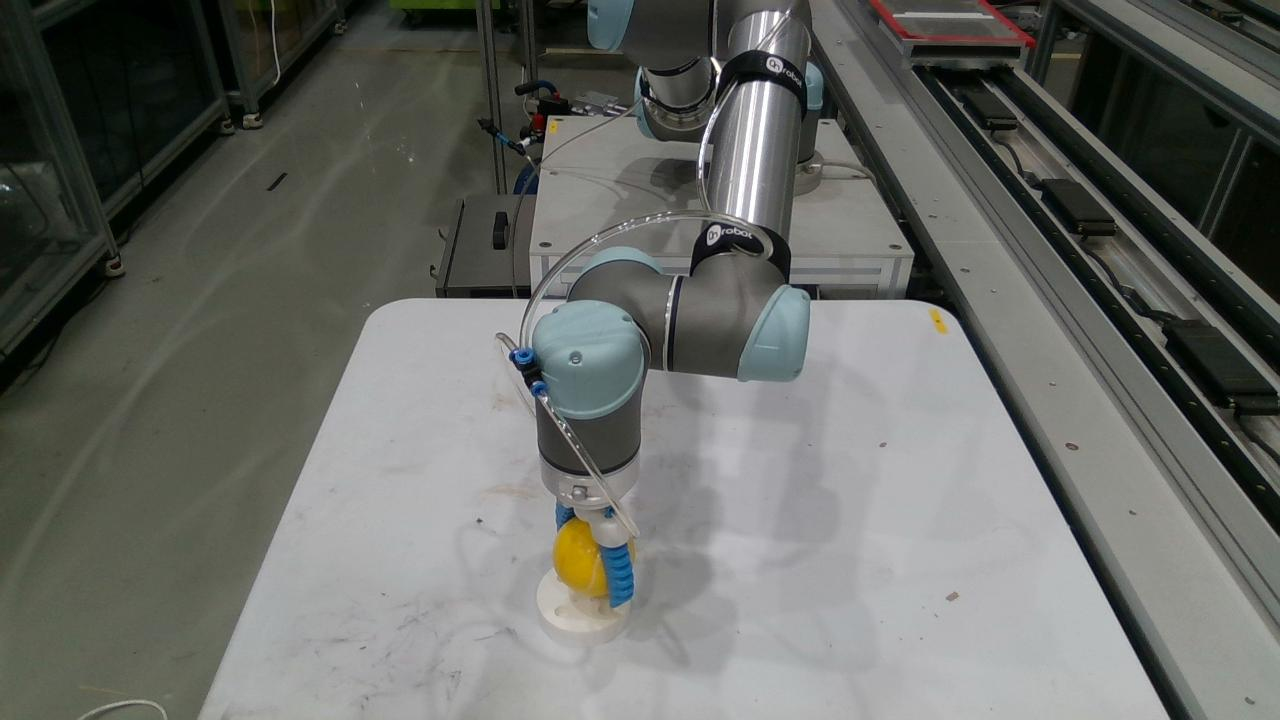UR5: (531, 0, 816, 503), (542, 448, 637, 547)
gripper_left: (556, 501, 575, 530)
gripper_right: (604, 546, 630, 605)
target: (536, 568, 632, 645), (553, 517, 607, 598)
